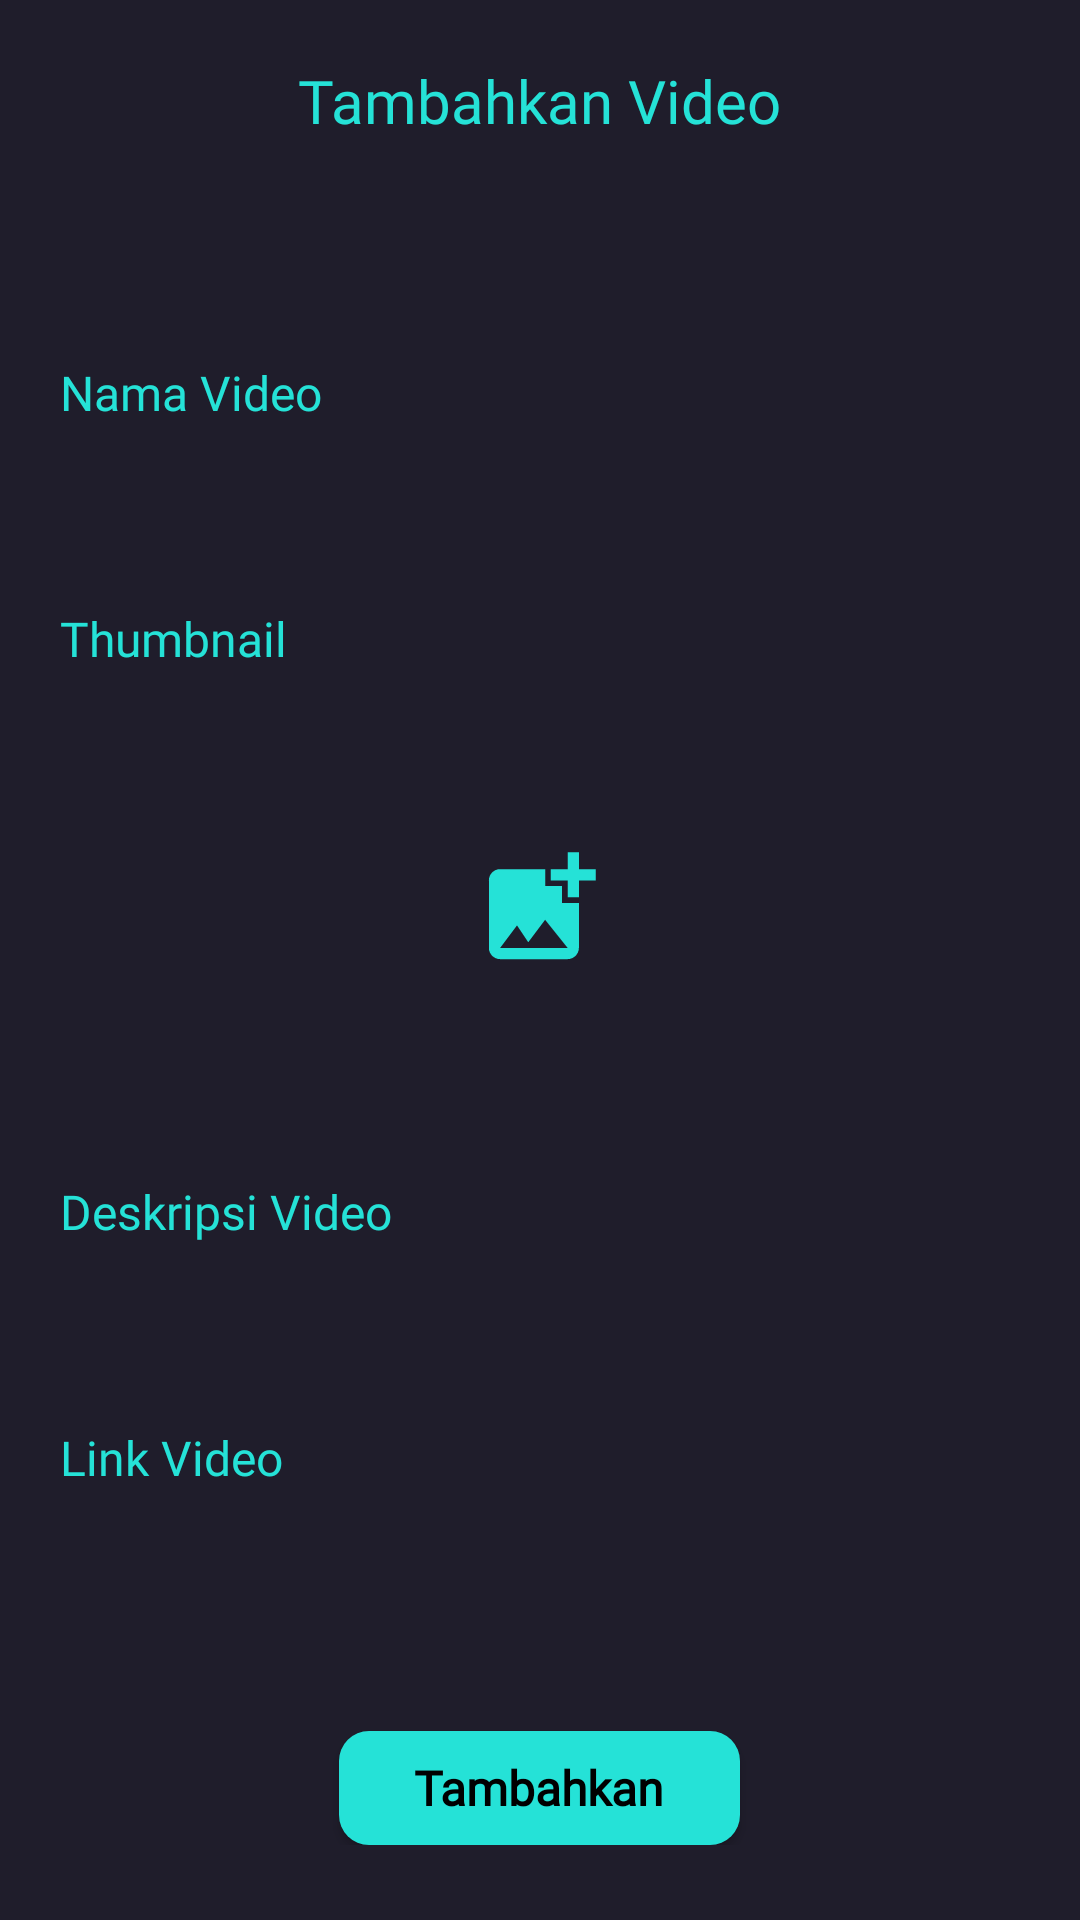

Where to tap for icons on this 1080x1920 app screen, as (x,y):
add photo alternate: (542,906)
